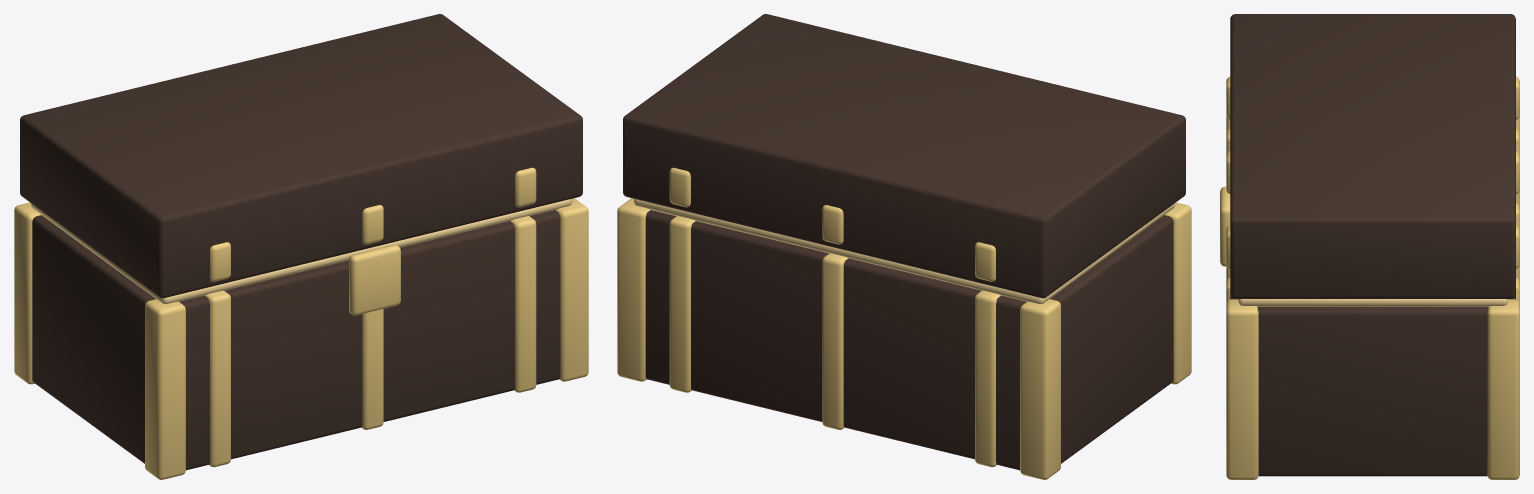
Rendered from SM_Caja.fbx.
3 renders of one model, left to right at view 1: azimuth 30°, elevation 25°; view 2: azimuth 150°, elevation 25°; view 3: azimuth 270°, elevation 25°, orthographic.
Parts seen in each view (by area): view 1: SM_Caja; view 2: SM_Caja; view 3: SM_Caja.
Boxes of the visible parts, box(x1,y1,x2,y2) form: SM_Caja: box(14, 14, 588, 479); SM_Caja: box(617, 14, 1191, 479); SM_Caja: box(1220, 14, 1519, 479).
Bounding box in the file's own units: 1.22 × 0.735 × 0.705.
